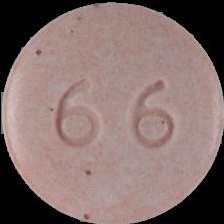60687-213: (0, 0, 224, 224)
